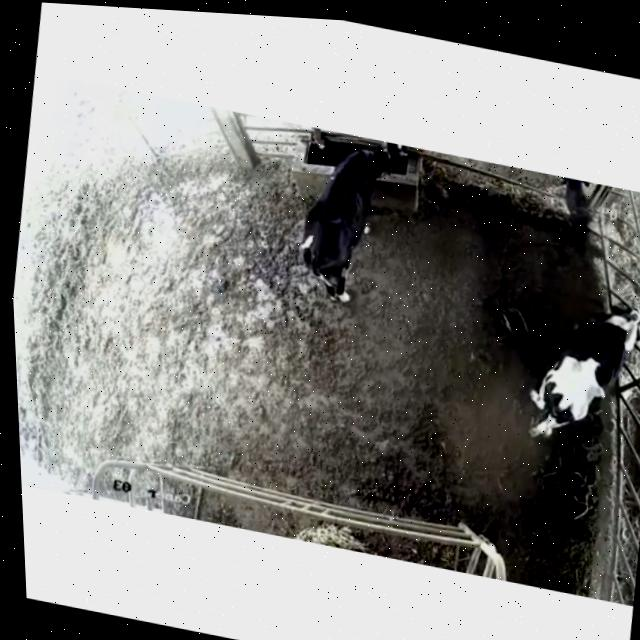drink: (330, 131, 426, 188)
eat: (576, 286, 640, 362)
